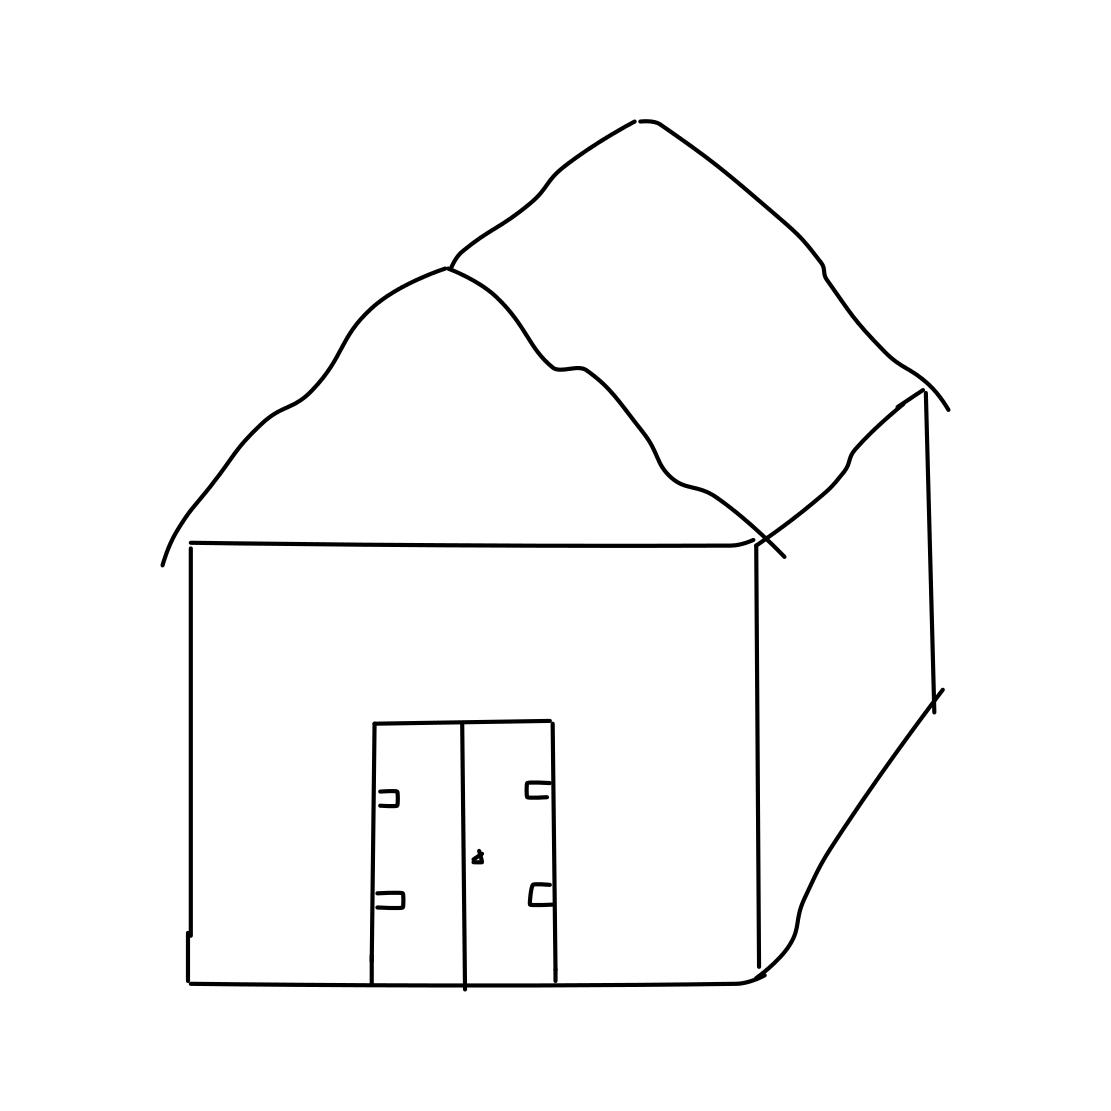House: (81, 102, 1038, 1024)
